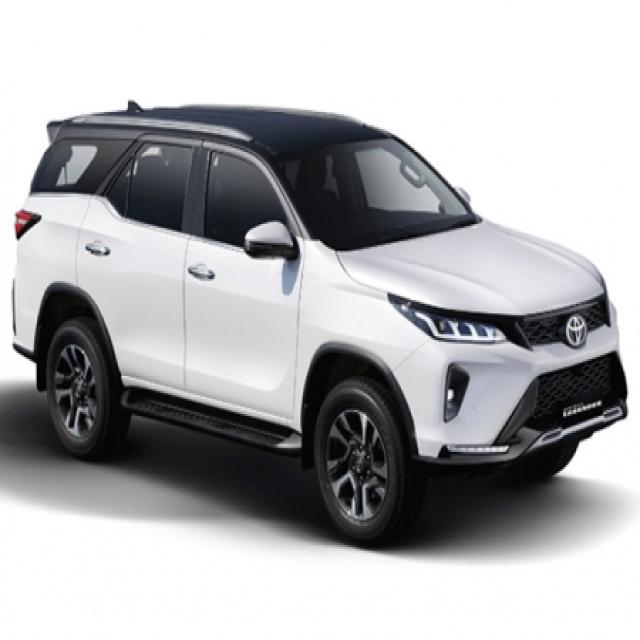light_vehicle: (10, 102, 629, 547)
